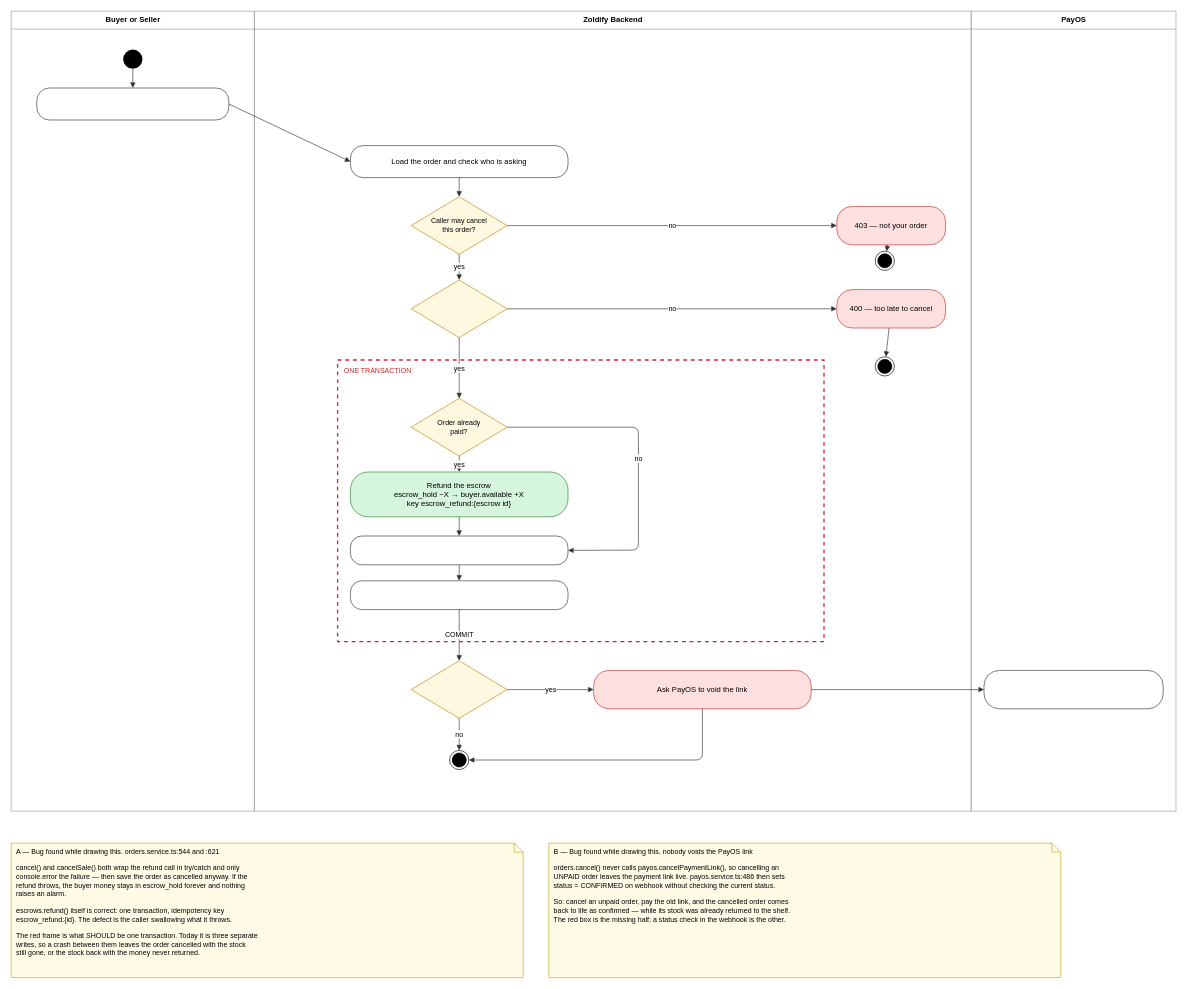
Image size: 1187x989. Some labels were removed from this diagram. Here are the shapes that lost their labels. From the top down, the centre of each, then its label:
At point (132, 103): "Open the order and press Cancel".
At point (459, 308): "Status is pending or confirmed?".
At point (459, 550): "Set order status = cancelled".
At point (459, 595): "Restore stock for every item".
At point (459, 689): "A PayOS payment link is still open?".
At point (1073, 689): "Void the link. Later payments are refused.".
